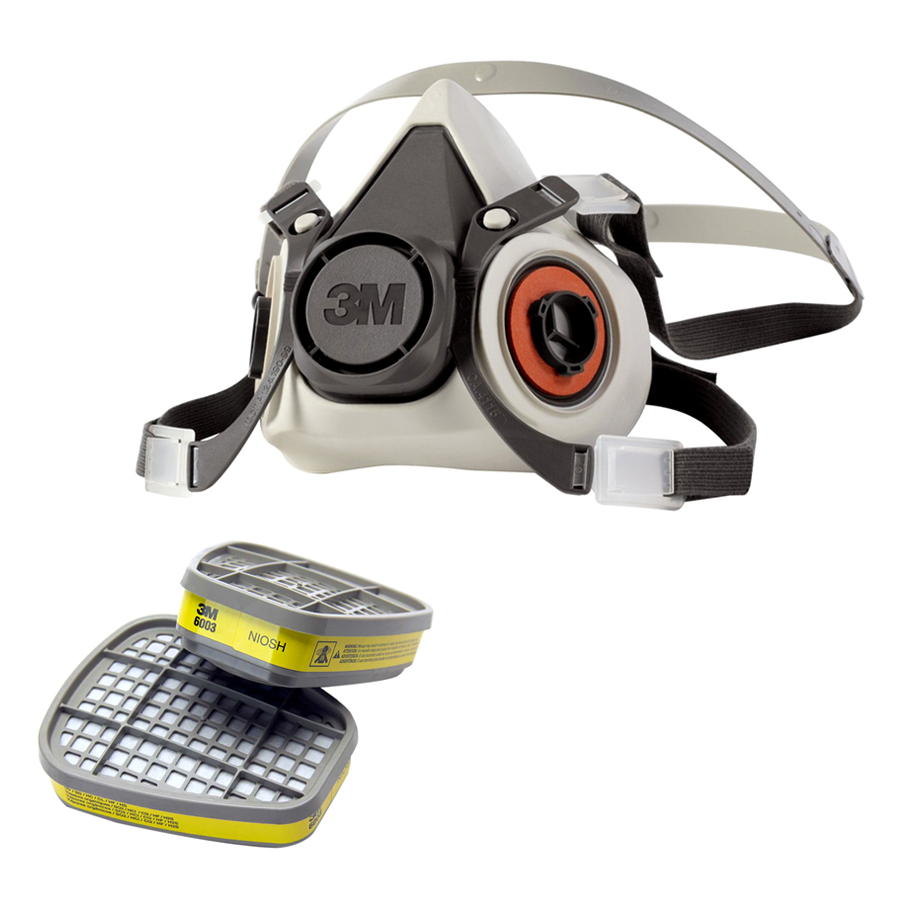3M: (319, 266, 415, 335), (193, 600, 225, 624)
